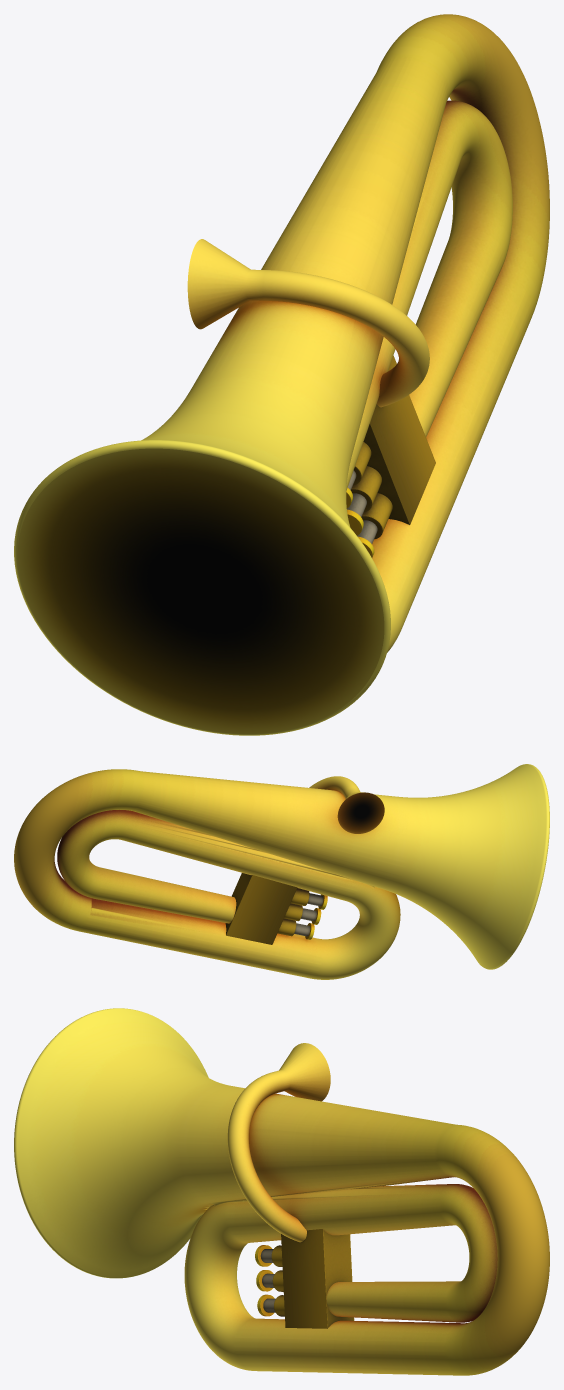
The model's file is tuba.glb.
3 views of the same model, one above another, from view 1: azimuth 30°, elevation 25°; view 2: azimuth 150°, elevation 25°; view 3: azimuth 270°, elevation 25° (orthographic). The views are drawn at different scales.
Parts seen in each view (by area): view 1: node_id46; view 2: node_id46; view 3: node_id46.
Part boxes in pixels (x1,y1,x2,y2): node_id46: [14, 14, 549, 735]; node_id46: [14, 764, 549, 979]; node_id46: [14, 1008, 549, 1375].
Bounding box in the file's own units: 0.474 × 0.2723 × 0.4238.
Materials: 1 (1 with a texture image).
